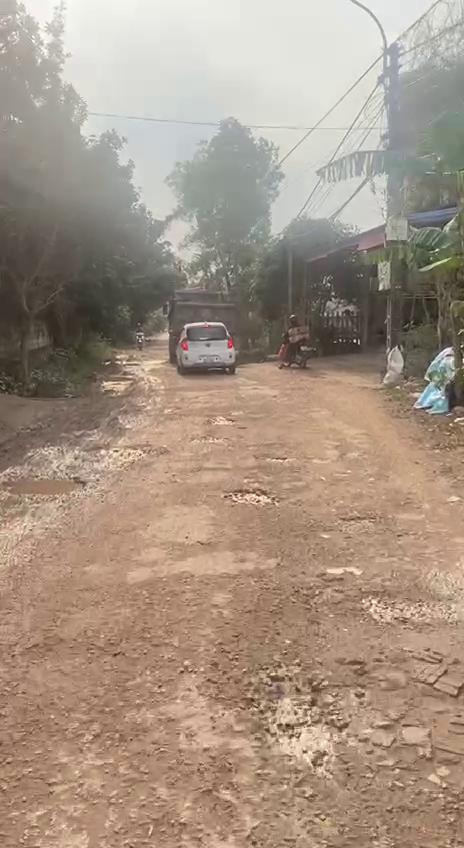pothole: (244, 646, 464, 848), (354, 589, 460, 635), (0, 472, 92, 498), (222, 485, 280, 508)
